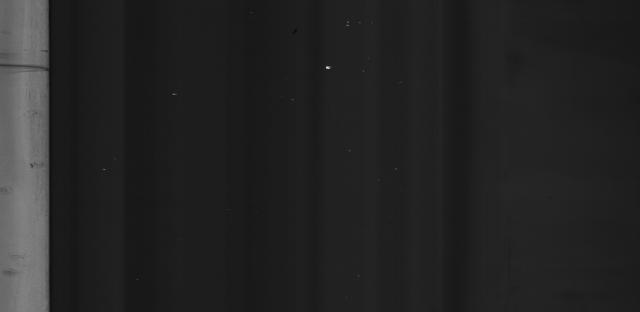crease: (4, 54, 44, 76)
